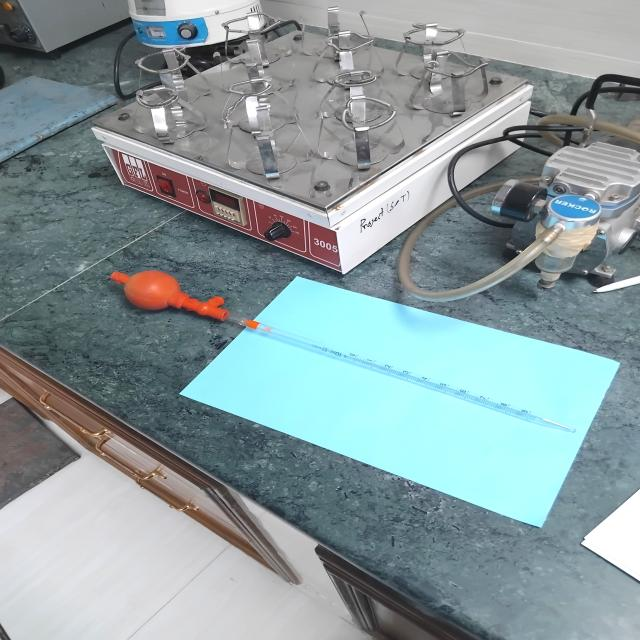Volumetric_Pipet: (82, 259, 591, 463)
